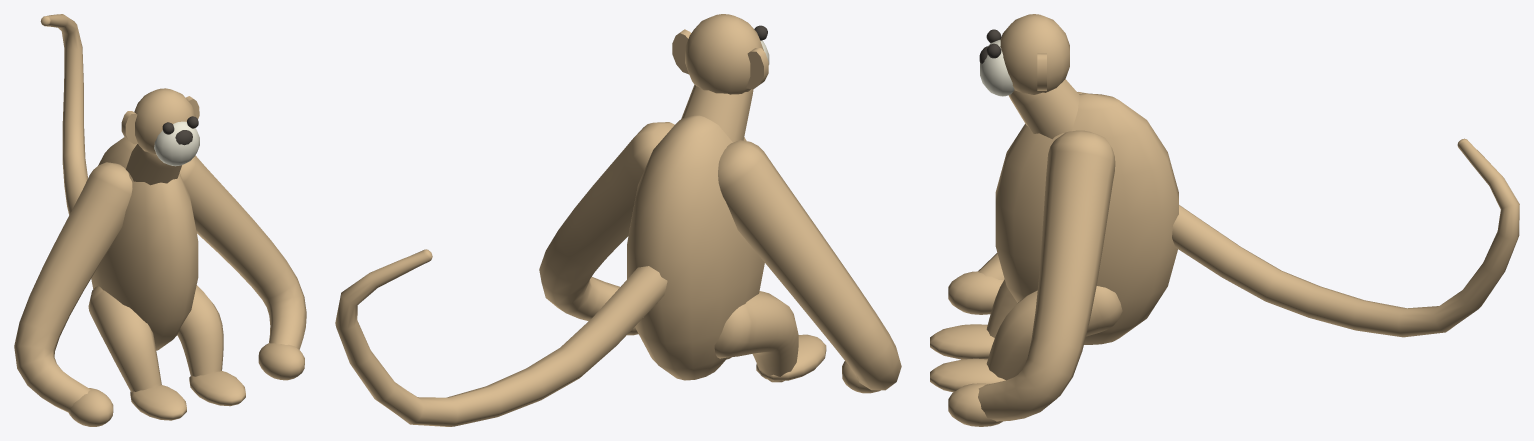
File: rainforest-and-jungle-fauna-capuchin-207f5591__21680.glb
The picture shows the model from 3 angles, left to right: view 1: azimuth 30°, elevation 25°; view 2: azimuth 150°, elevation 25°; view 3: azimuth 270°, elevation 25°; orthographic projection. The views are drawn at different scales.
Visible parts, largest first — view 1: capuchin; view 2: capuchin; view 3: capuchin.
Part boxes in pixels (box(x1,y1,x2,y2)): capuchin: box(14, 14, 306, 426); capuchin: box(335, 14, 901, 426); capuchin: box(930, 14, 1519, 426).
Bounding box in the file's own units: 0.4637 × 0.4659 × 0.7.
